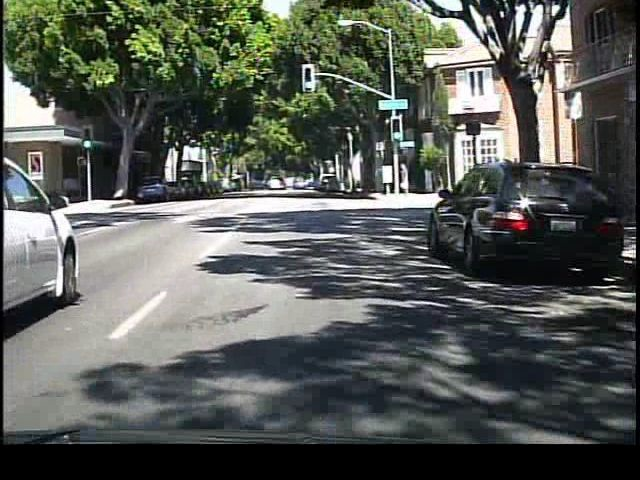person: (396, 157, 415, 197)
